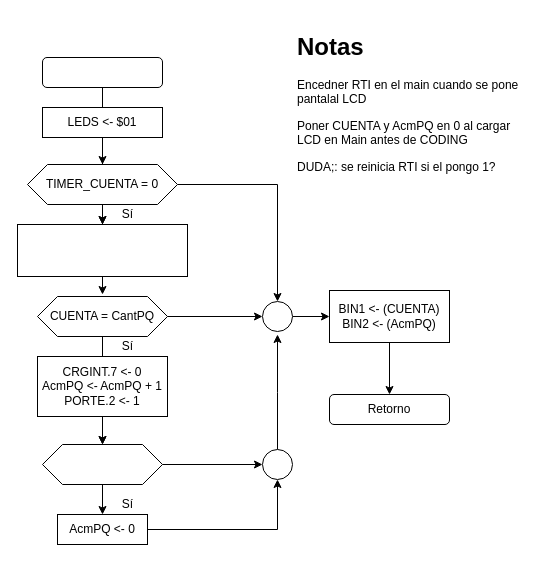
The diagram is 540 pixels wide and 562 high, and some of its shapes have lost their labels. The shapes that lost their labels are listed below. From the top down, each one's centre as x and y in pixels, then its label:
At (102,72): "MODO_RUN".
At (102,250): "TIMER_CUENTA <- VMAX CUENTA <- CUENTA +1".
At (102,464): "AcmPQ = 100".
